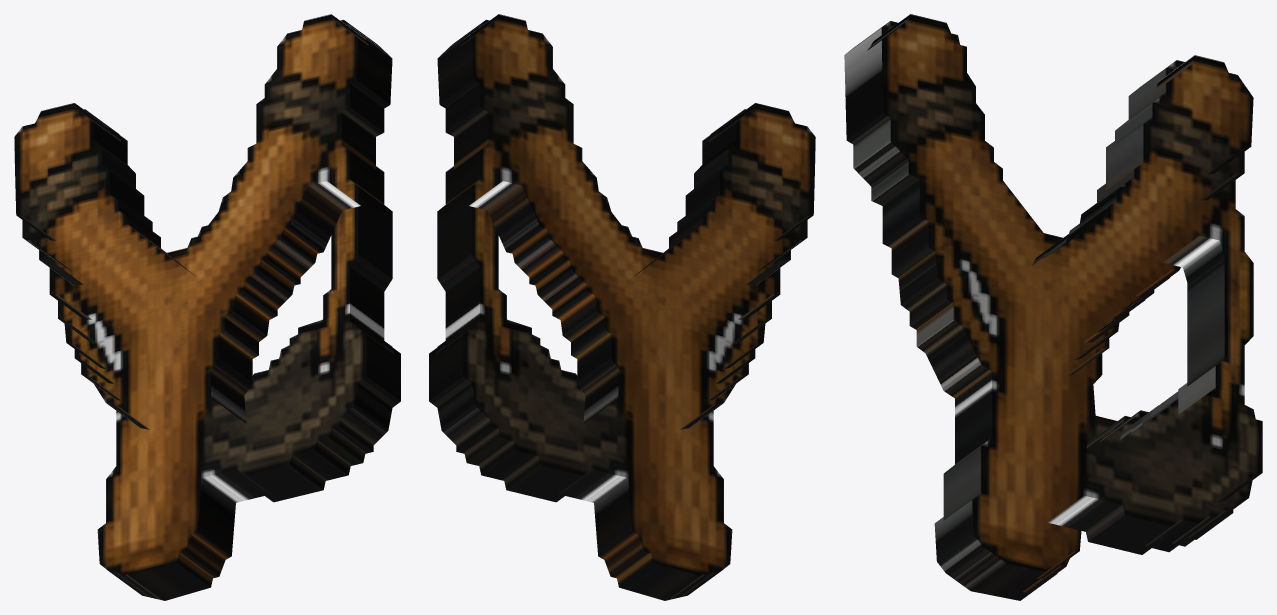
The model's file is slingshot.glb.
3 views of the same model, side by side, from view 1: azimuth 30°, elevation 25°; view 2: azimuth 150°, elevation 25°; view 3: azimuth 330°, elevation 25° (orthographic). The views are drawn at different scales.
Visible parts, largest first — view 1: world; view 2: world; view 3: world.
Part boxes in pixels (x1=…): world: x1=14, y1=14, x2=400, y2=600; world: x1=429, y1=14, x2=815, y2=600; world: x1=844, y1=14, x2=1262, y2=600.
Size of the model in its own units: 1.69 by 2.35 by 0.2832.
1 material, 1 textured.
